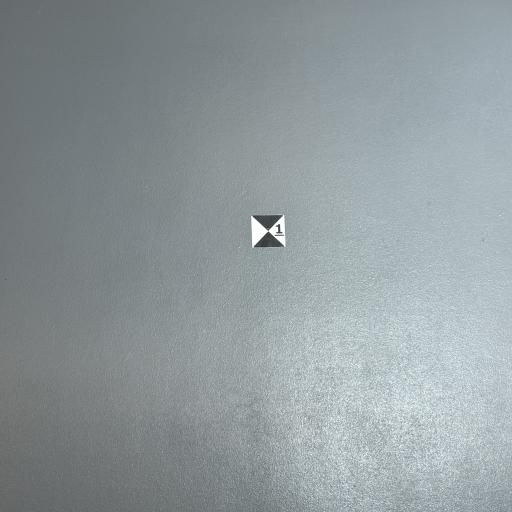target1: (248, 208, 288, 250)
